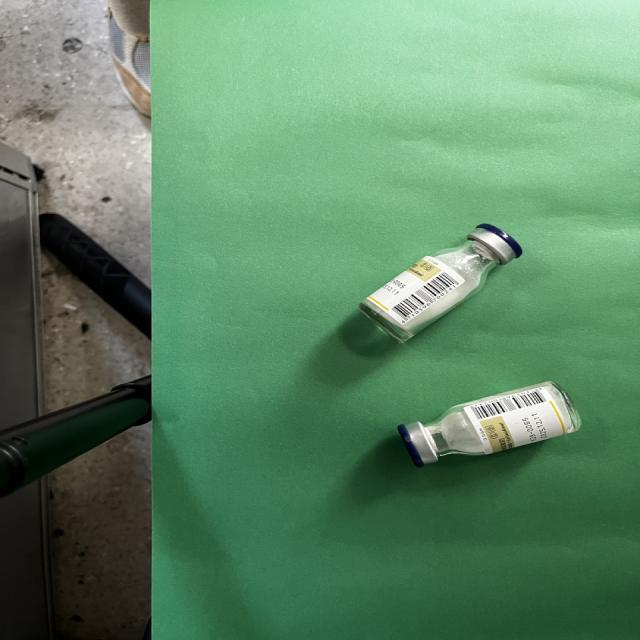Vials: (359, 223, 522, 344), (397, 382, 581, 468)
